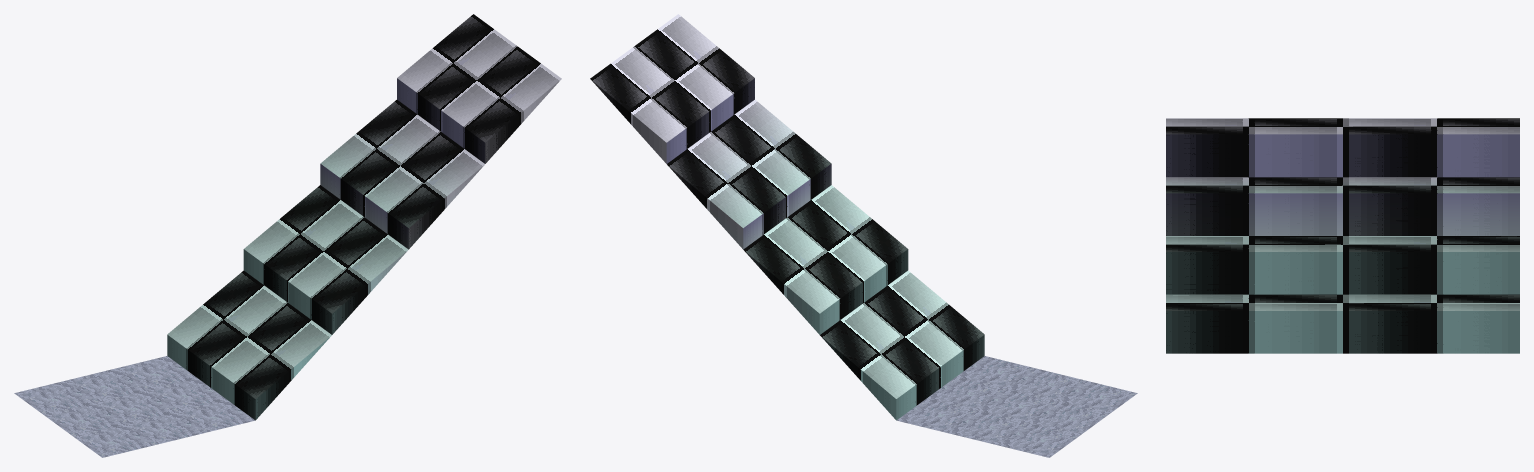
The model's file is km1_dorifu3.glb.
3 views of the same model, side by side, from view 1: azimuth 30°, elevation 25°; view 2: azimuth 150°, elevation 25°; view 3: azimuth 270°, elevation 25° (orthographic). The views are drawn at different scales.
Visible parts, largest first — view 1: km1_dorifu3; view 2: km1_dorifu3; view 3: km1_dorifu3.
Boxes of the visible parts, x1,y1,x2,y2 form: km1_dorifu3: (14,14,561,457); km1_dorifu3: (590,14,1137,457); km1_dorifu3: (1166,118,1519,353).
Bounding box in the file's own units: 7.03 × 3.91 × 2.34.
2 materials, 2 textured.
